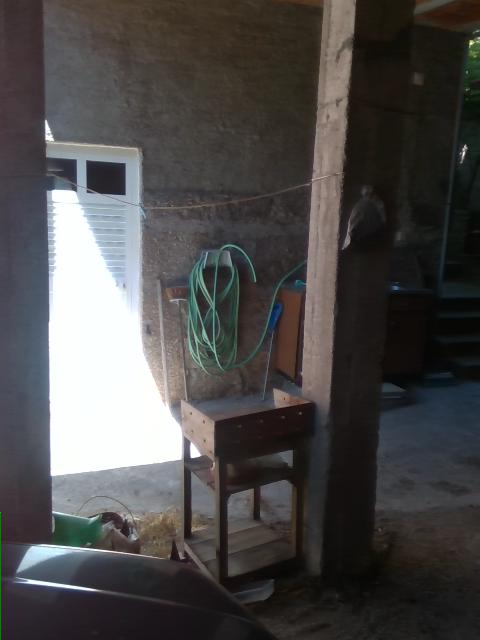door: (44, 139, 140, 398)
